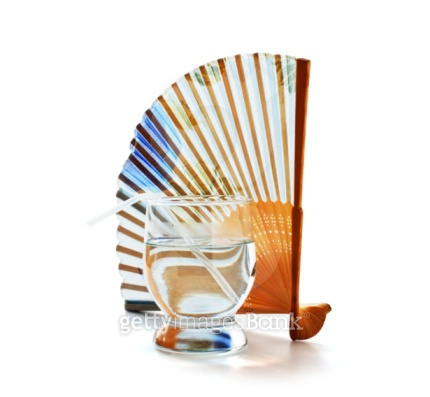glass of water: (139, 188, 260, 359)
